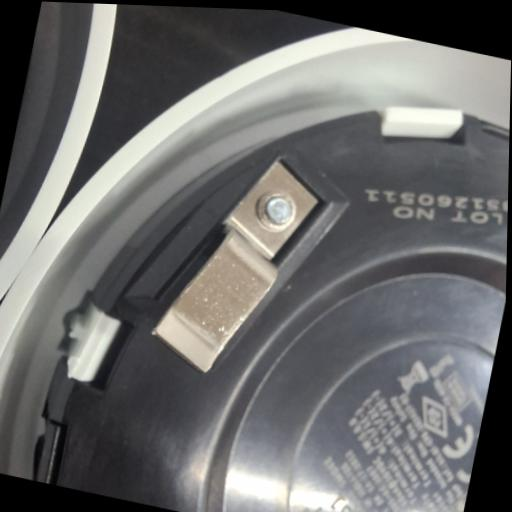yaysiz: (146, 136, 330, 393)
